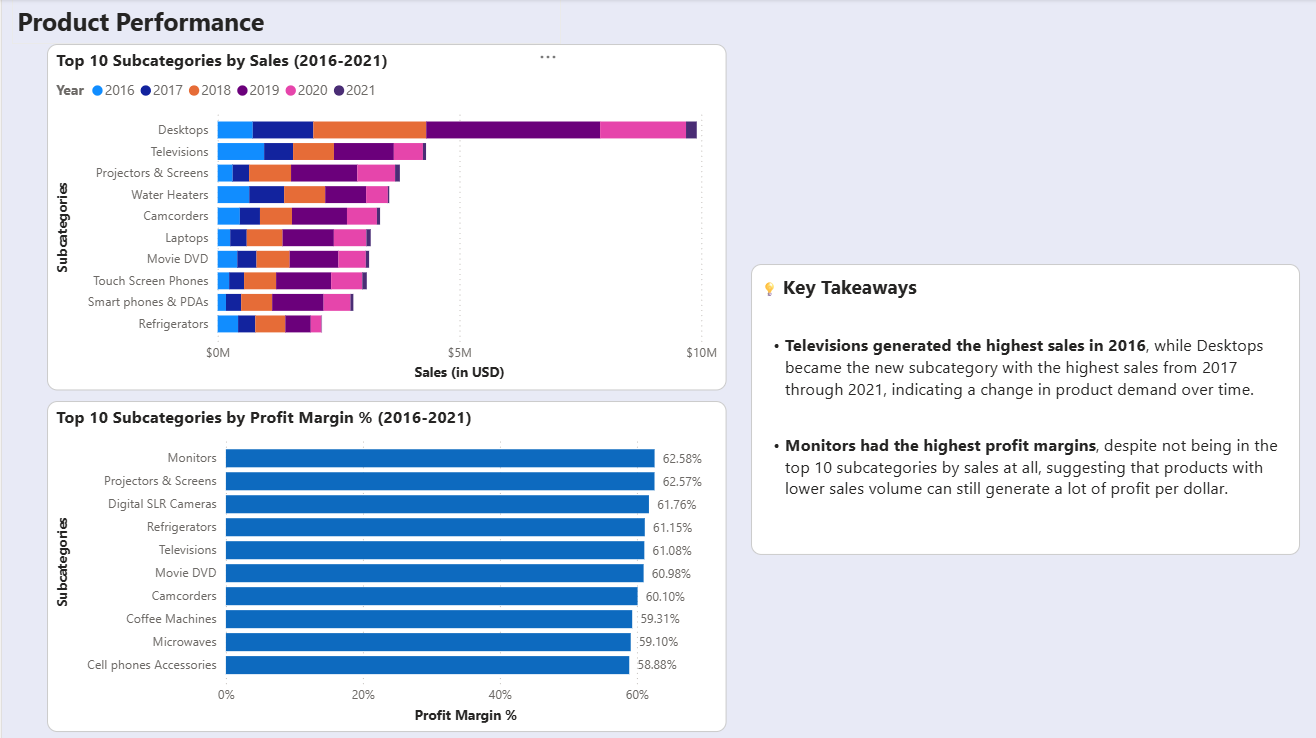

What the dashboard file says about the page in this screenshot:
{"tool":"powerbi","page":{"name":"Product Performance","canvas":[1280,720],"ordinal":2},"visuals":[{"type":"barChart","title":"Top 10 Subcategories by Sales (2016-2021)","fields":{"Category":["Products.Subcategory"],"Y":["Sum(sales_cleaned.Sales)"],"Series":["sales_cleaned.Order Date.Variation.Date Hierarchy.Year"]},"box":[43.8,43.8,661.4,336.5],"z":0},{"type":"textbox","box":[9.7,0,534,43.8],"z":1000},{"type":"barChart","title":"Top 10 Subcategories by Profit Margin % (2016-2021)","fields":{"Category":["Products.Subcategory"],"Y":["sales_cleaned.Profit Margin %"]},"box":[43.8,391,661.4,321.9],"z":2000},{"type":"textbox","box":[728.5,257.8,534,283],"z":3000}]}

Visuals, with their boxes in screenshot pixels (x1, y1, x2, y2), scaled from the page's 1280x720 canvas onto the 1316x738 screenshot:
"Top 10 Subcategories by Sales (2016-2021)" barChart: l=45, t=45, r=725, b=390
textbox: l=10, t=0, r=559, b=45
"Top 10 Subcategories by Profit Margin % (2016-2021)" barChart: l=45, t=401, r=725, b=731
textbox: l=749, t=264, r=1298, b=554
